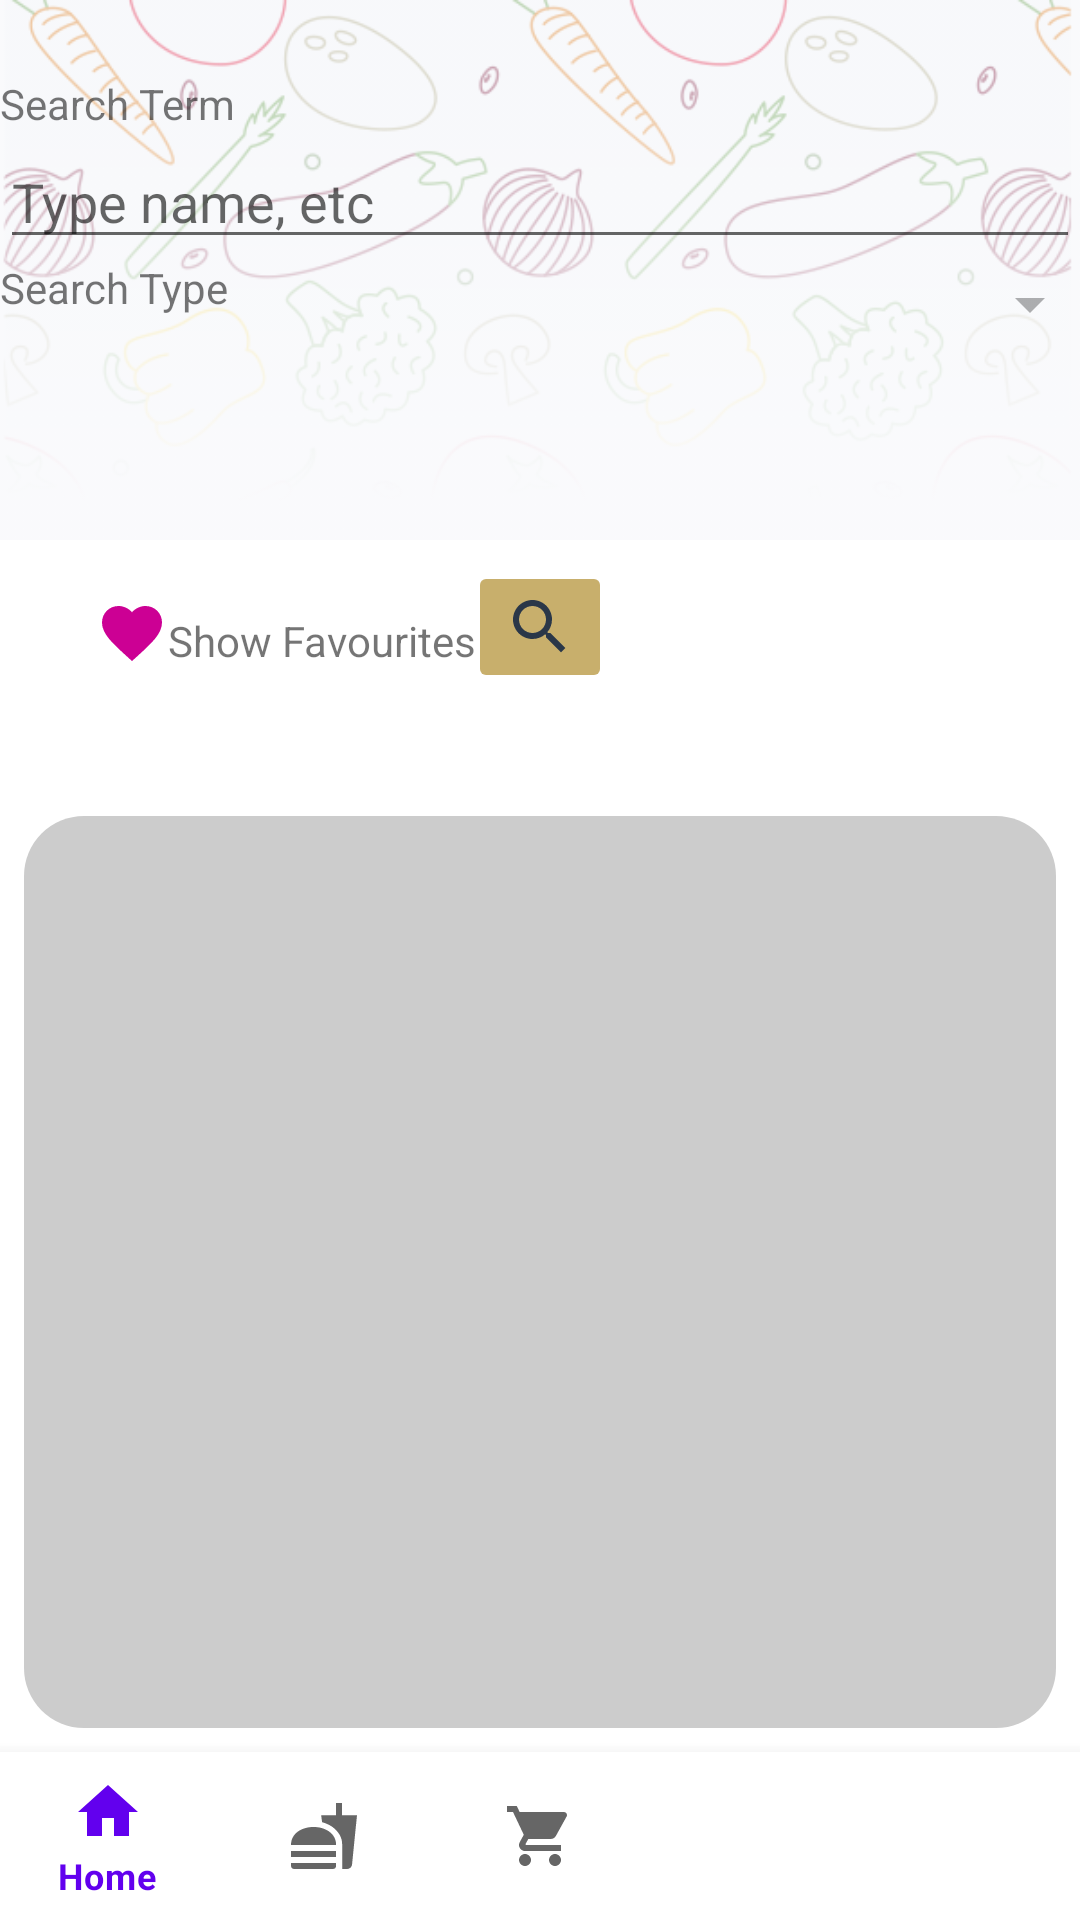

Where icons sit on this 1080px×1920px app screen, as {"x1": x1, "y1": y1, "x2": x2, "y2": y2}:
search: {"x1": 480, "y1": 579, "x2": 600, "y2": 675}
